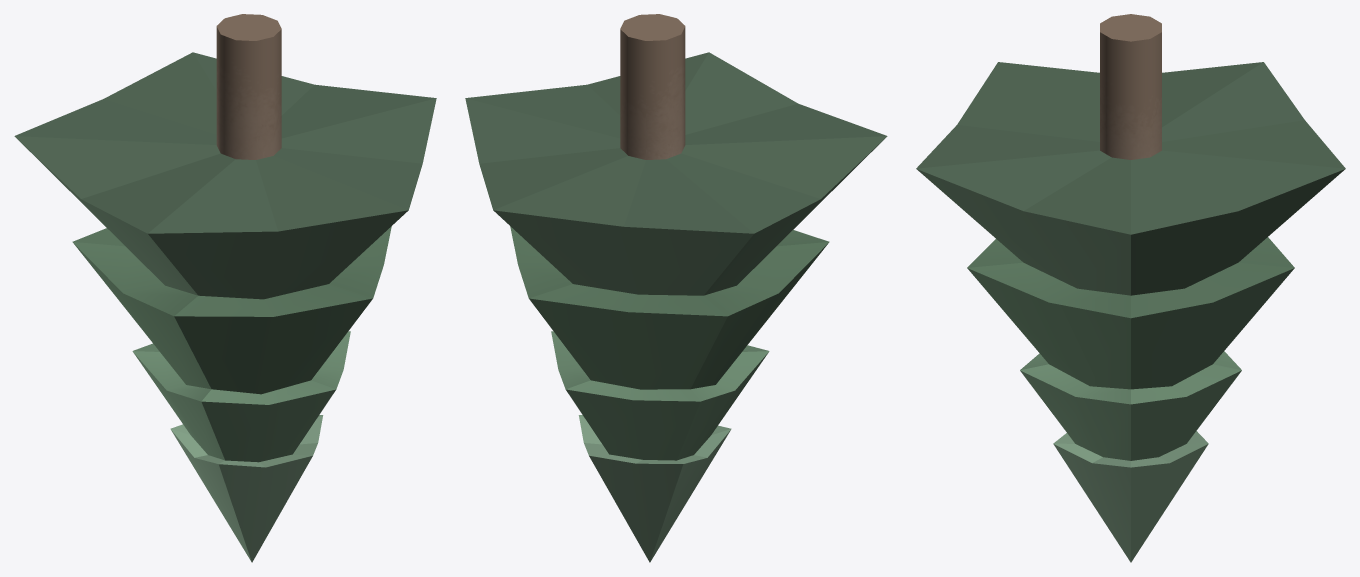
Rendered from Tree.fbx.
3 renders of one model, left to right at view 1: azimuth 30°, elevation 25°; view 2: azimuth 150°, elevation 25°; view 3: azimuth 270°, elevation 25°, orthographic.
Parts seen in each view (by area): view 1: pasted__pasted__pasted__pPlatonic2; view 2: pasted__pasted__pasted__pPlatonic2; view 3: pasted__pasted__pasted__pPlatonic2.
Part boxes in pixels (x1,y1,x2,y2): pasted__pasted__pasted__pPlatonic2: (14, 14, 436, 562); pasted__pasted__pasted__pPlatonic2: (465, 14, 887, 562); pasted__pasted__pasted__pPlatonic2: (916, 14, 1345, 562).
Size of the model in its own units: 3.13 by 4.5 by 3.29.
